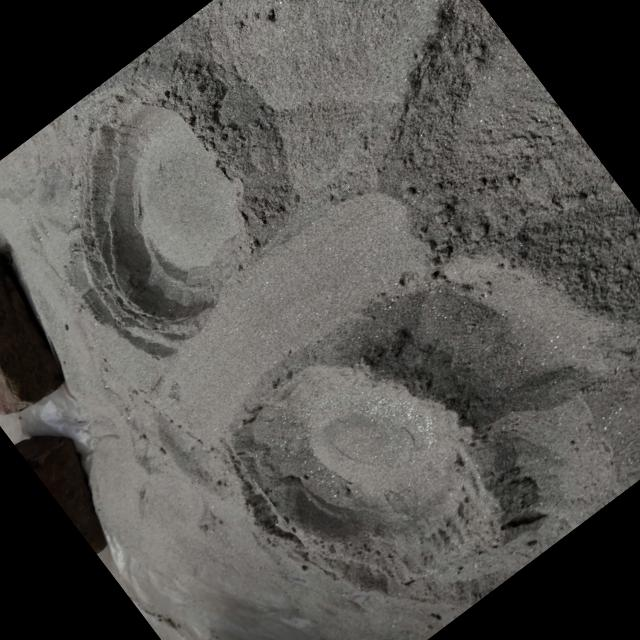C20: (236, 366, 471, 563), (77, 102, 244, 355)
